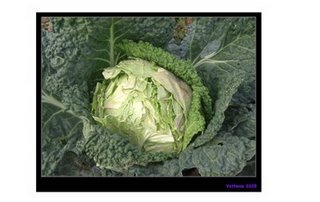cabbage: (40, 16, 256, 177)
